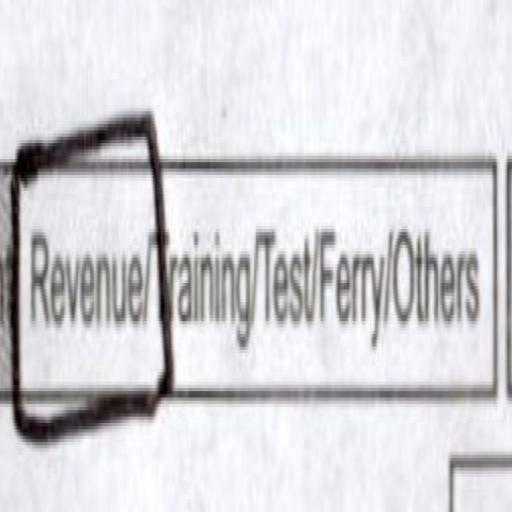check: (12, 102, 148, 462)
